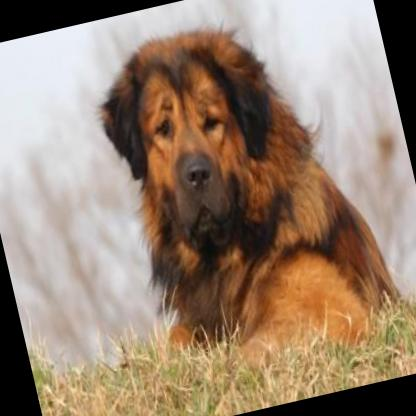Tibetan_mastiff: (79, 0, 414, 395)
